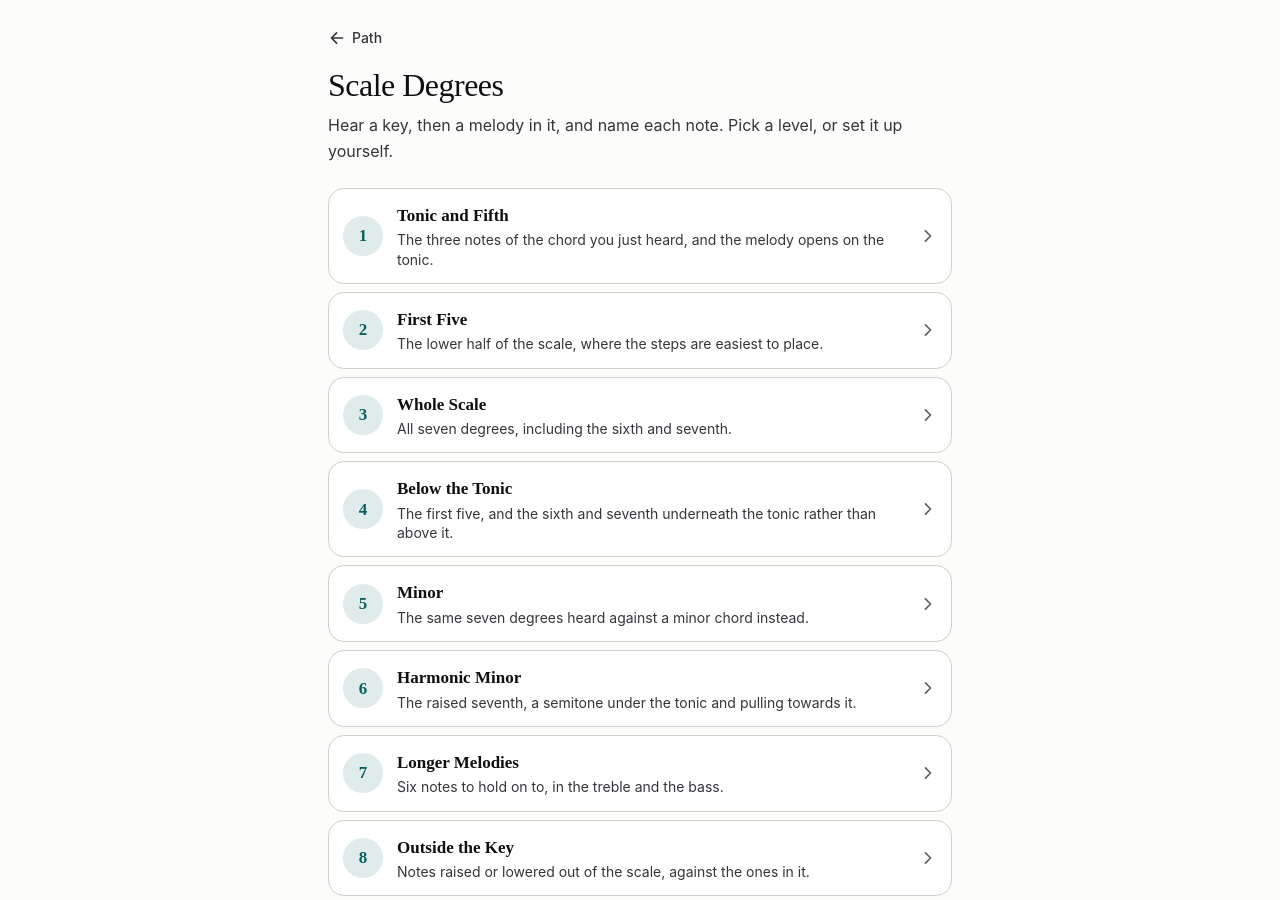
Test: Scale Degrees › offers the accidental keys on a level that leaves it
Click the text "Outside the Key": (456, 847) x1=397 y1=838 x2=514 y2=857
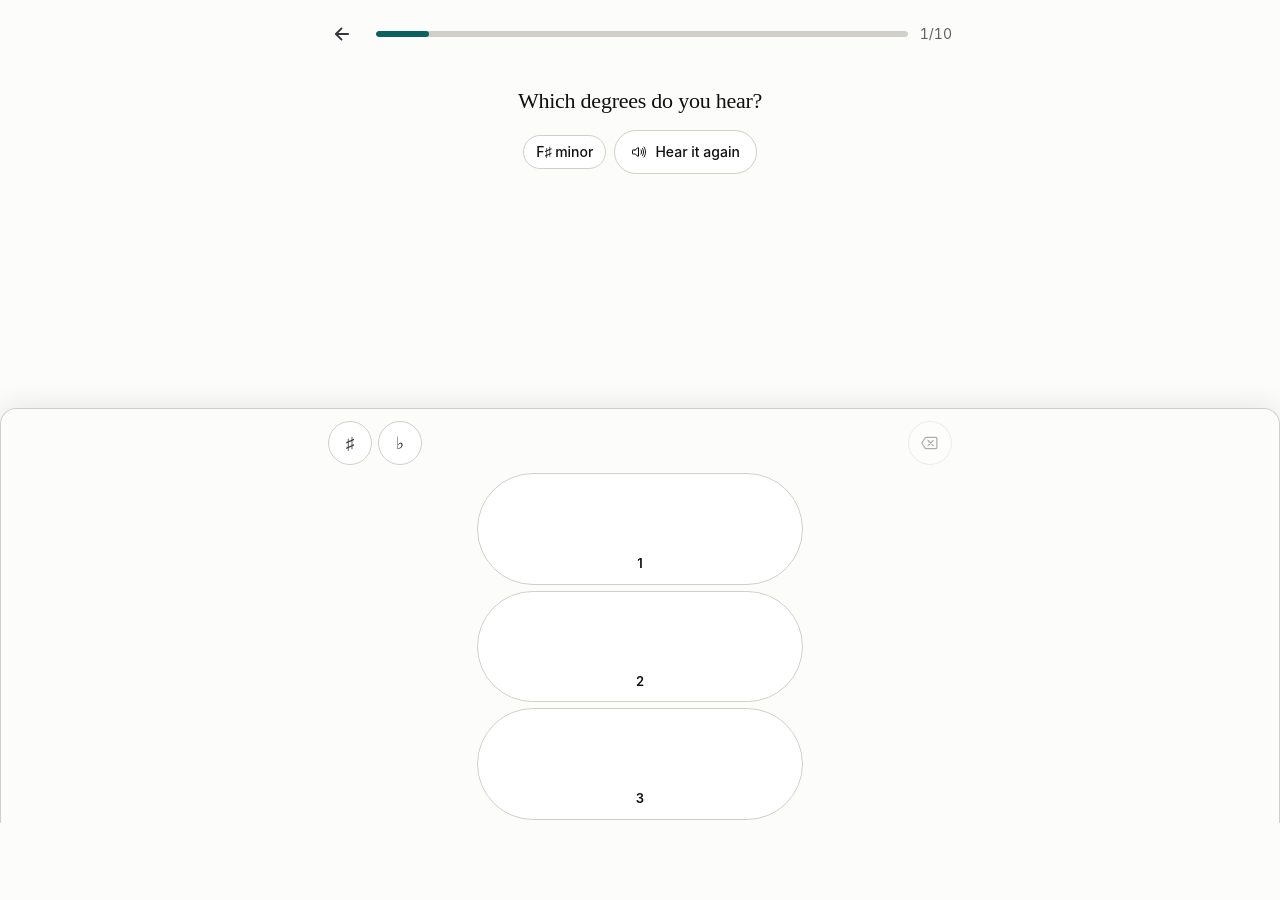
Expected: the button named "Raise the next note" is shown, x1=328 y1=421 x2=372 y2=465
Expected: the button named "Lower the next note" is shown, x1=378 y1=421 x2=422 y2=465
